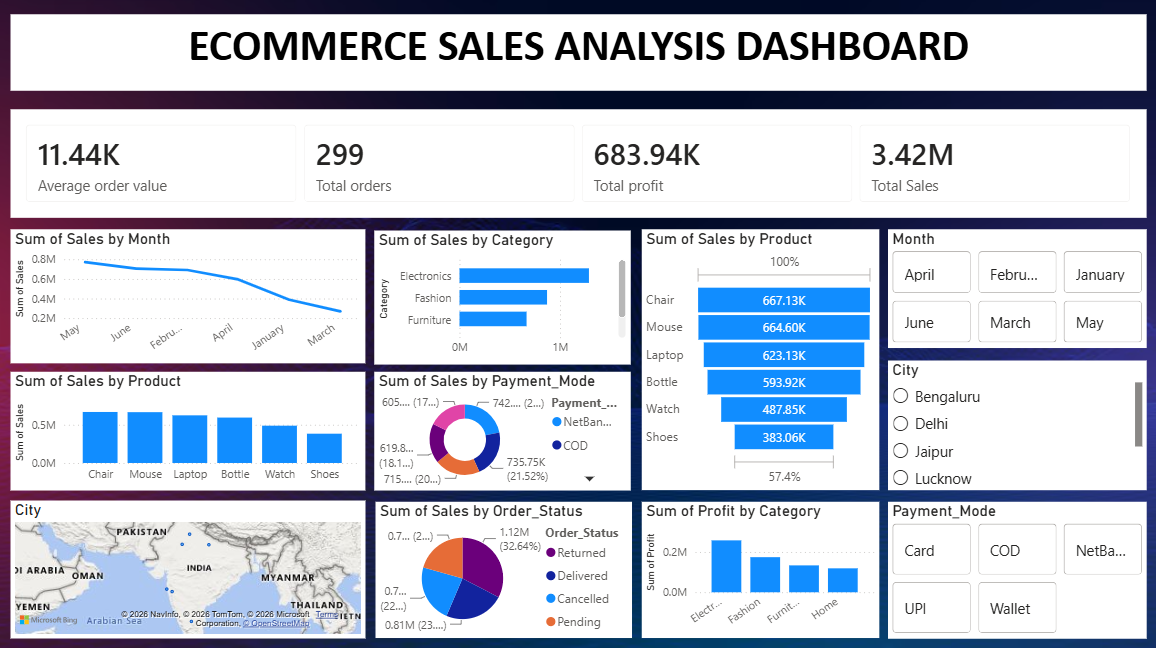

What the dashboard file says about the page in this screenshot:
{"tool":"powerbi","page":{"name":"Page 1","canvas":[1280,720],"ordinal":0},"visuals":[{"type":"cardVisual","fields":{"Data":["Dax Measures.Average order value","Dax Measures.Total orders","Dax Measures.Total profit","Dax Measures.Total Sales"]},"box":[19.2,127.6,1247.3,119.4],"z":0},{"type":"textbox","box":[19.2,23.3,1247.3,83.7],"z":1},{"type":"lineChart","fields":{"Category":["ecommerce orders.Month"],"Y":["Sum(ecommerce orders.Sales)"]},"box":[19.2,259.3,389.7,146.8],"z":2},{"type":"barChart","fields":{"Y":["Sum(ecommerce orders.Sales)"],"Category":["ecommerce orders.Category"]},"box":[418.5,260.7,281.3,146.8],"z":3},{"type":"columnChart","fields":{"Y":["Sum(ecommerce orders.Sales)"],"Category":["ecommerce orders.Product"]},"box":[19.2,415.8,389.7,130.4],"z":4},{"type":"map","fields":{"Category":["ecommerce orders.City"]},"box":[19.2,557.1,389.7,150.9],"z":5},{"type":"donutChart","fields":{"Y":["Sum(ecommerce orders.Sales)"],"Category":["ecommerce orders.Payment_Mode"]},"box":[418.5,415.8,281.3,130.4],"z":6},{"type":"pieChart","fields":{"Category":["ecommerce orders.Order_Status"],"Y":["Sum(ecommerce orders.Sales)"]},"box":[419.9,558.5,281.3,149.6],"z":7},{"type":"funnel","fields":{"Category":["ecommerce orders.Product"],"Y":["Sum(ecommerce orders.Sales)"]},"box":[712.2,259.3,260.7,286.8],"z":8},{"type":"columnChart","fields":{"Category":["ecommerce orders.Category"],"Y":["Sum(ecommerce orders.Profit)"]},"box":[712.2,558.5,260.7,149.6],"z":9},{"type":"advancedSlicerVisual","fields":{"Values":["ecommerce orders.Month"]},"box":[982.5,259.3,284,130.4],"z":10},{"type":"listSlicer","fields":{"Values":["ecommerce orders.City"]},"box":[982.5,403.4,284,142.7],"z":11},{"type":"advancedSlicerVisual","fields":{"Values":["ecommerce orders.Payment_Mode"]},"box":[983,558,284,150],"z":12}]}

Visuals, with their boxes in screenshot pixels (x1, y1, x2, y2), scaled from the page's 1280x720 canvas onto the 1156x648 screenshot:
cardVisual - Dax Measures.Average order value x Dax Measures.Total orders: bbox(17, 115, 1144, 222)
textbox: bbox(17, 21, 1144, 96)
lineChart - ecommerce orders.Month x Sum(ecommerce orders.Sales): bbox(17, 233, 369, 365)
barChart - Sum(ecommerce orders.Sales) x ecommerce orders.Category: bbox(378, 235, 632, 367)
columnChart - Sum(ecommerce orders.Sales) x ecommerce orders.Product: bbox(17, 374, 369, 492)
map - ecommerce orders.City: bbox(17, 501, 369, 637)
donutChart - Sum(ecommerce orders.Sales) x ecommerce orders.Payment_Mode: bbox(378, 374, 632, 492)
pieChart - ecommerce orders.Order_Status x Sum(ecommerce orders.Sales): bbox(379, 503, 633, 637)
funnel - ecommerce orders.Product x Sum(ecommerce orders.Sales): bbox(643, 233, 879, 491)
columnChart - ecommerce orders.Category x Sum(ecommerce orders.Profit): bbox(643, 503, 879, 637)
advancedSlicerVisual - ecommerce orders.Month: bbox(887, 233, 1144, 351)
listSlicer - ecommerce orders.City: bbox(887, 363, 1144, 491)
advancedSlicerVisual - ecommerce orders.Payment_Mode: bbox(888, 502, 1144, 637)
